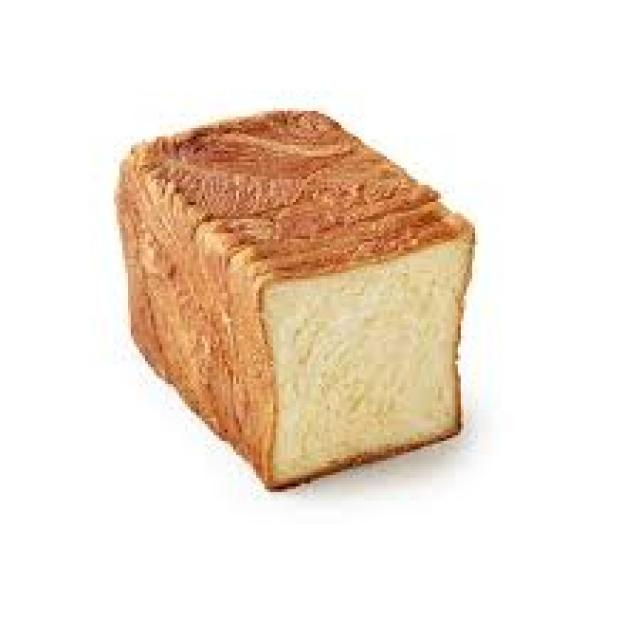bread: (115, 109, 475, 489)
